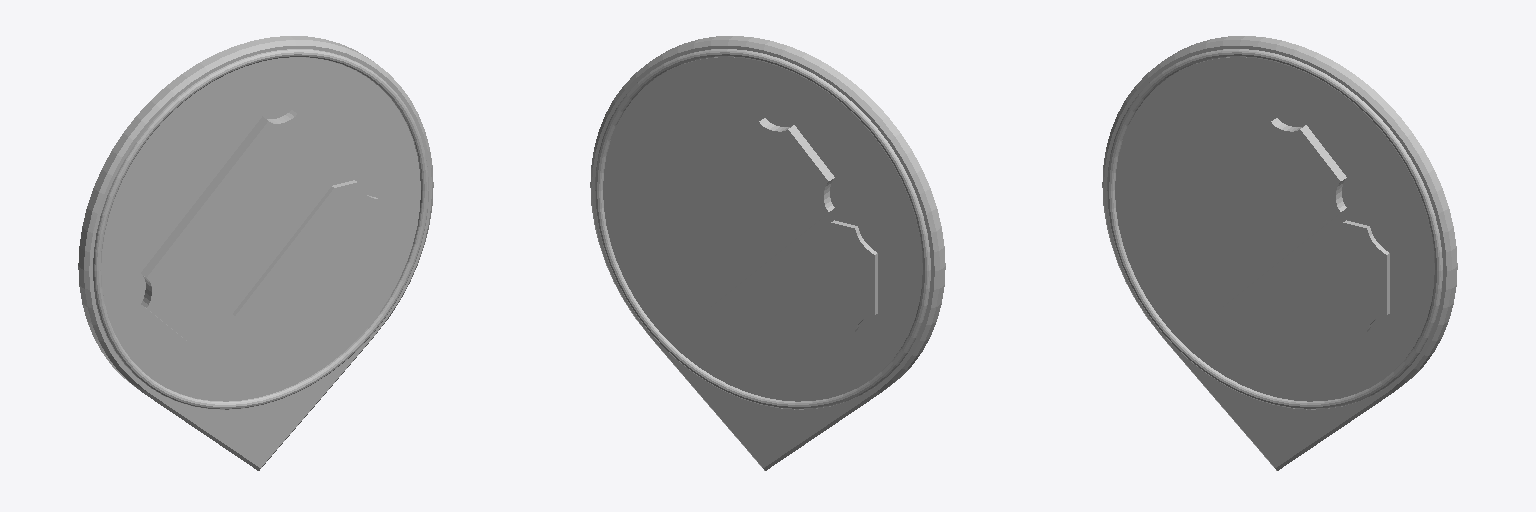
File: Icon_03.obj
3 views of the same model, side by side, from view 1: azimuth 30°, elevation 25°; view 2: azimuth 150°, elevation 25°; view 3: azimuth 330°, elevation 25° (orthographic).
Parts seen in each view (by area): view 1: Icon__03; view 2: Icon__03; view 3: Icon__03.
Part boxes in pixels (x1,y1,x2,y2): Icon__03: (78, 36, 433, 470); Icon__03: (590, 36, 945, 470); Icon__03: (1102, 36, 1457, 470).
Bounding box in the file's own units: 20.03 × 23.35 × 2.14.